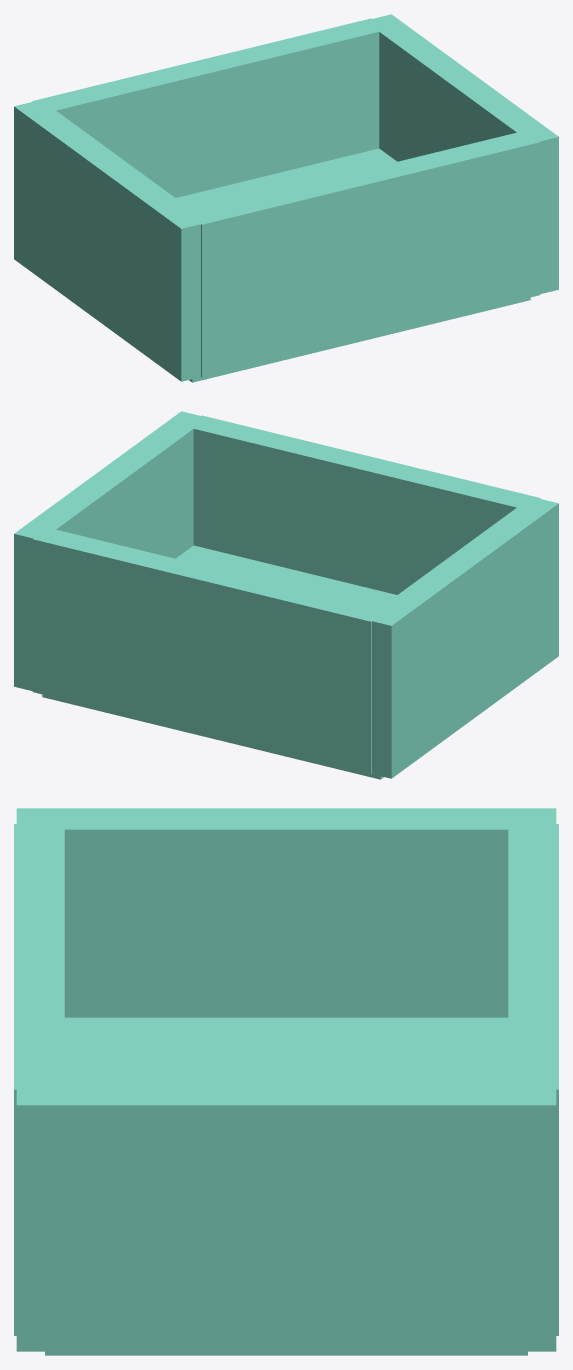
The picture shows the model from 3 angles, top to bottom: view 1: azimuth 30°, elevation 25°; view 2: azimuth 150°, elevation 25°; view 3: azimuth 270°, elevation 25°; orthographic projection. The views are drawn at different scales.
Visible parts, largest first — view 1: Bin end, Bin end.001, Bin side, Bin side.001, Bin bottom; view 2: Bin end.001, Bin end, Bin side, Bin side.001, Bin bottom; view 3: Bin side.001, Bin side, Bin bottom, Bin end.001, Bin end.
Boxes of the visible parts, <box> form: Bin end: <box>186,132,540,377</box>; Bin end.001: <box>32,18,386,197</box>; Bin side: <box>14,100,200,381</box>; Bin side.001: <box>365,14,558,293</box>; Bin bottom: <box>176,148,530,382</box>; Bin end.001: <box>32,529,386,774</box>; Bin end: <box>186,415,540,594</box>; Bin side: <box>372,497,558,778</box>; Bin side.001: <box>14,411,206,690</box>; Bin bottom: <box>42,545,396,779</box>; Bin side.001: <box>16,1084,556,1351</box>; Bin side: <box>16,808,556,1017</box>; Bin bottom: <box>45,1017,527,1355</box>; Bin end.001: <box>508,824,558,1335</box>; Bin end: <box>14,824,64,1335</box>.
Bounding box in the file's own units: 0.6875 × 0.287 × 0.5335.
Materials: 1 (1 with a texture image).
